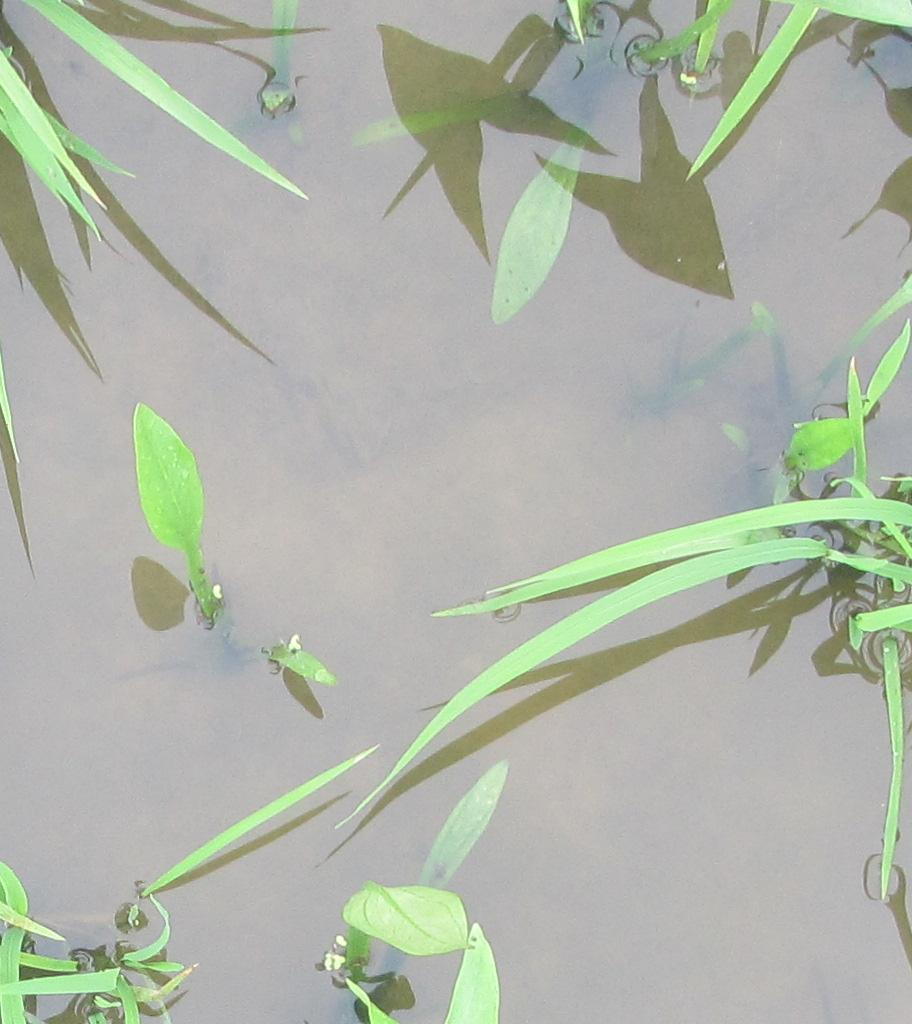Weed: (119, 399, 225, 613), (346, 877, 503, 1007)
